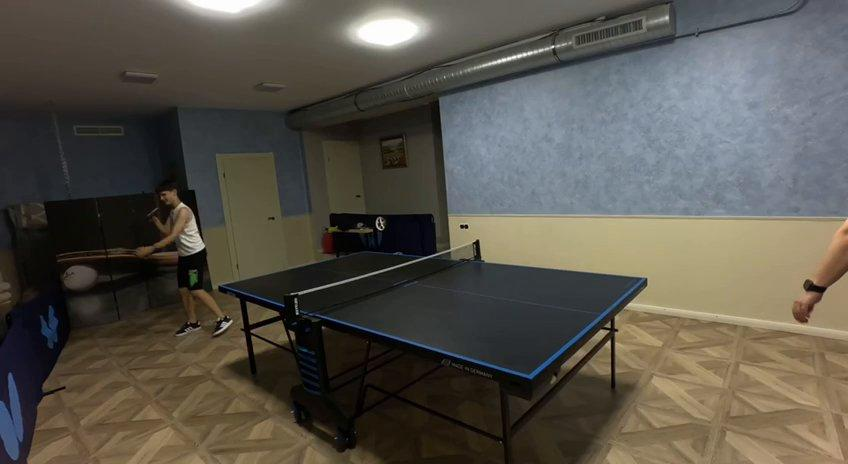Net: (284, 241, 482, 319)
Player1: (148, 182, 233, 337)
Player2: (792, 218, 847, 324)
Table: (222, 254, 646, 379)
